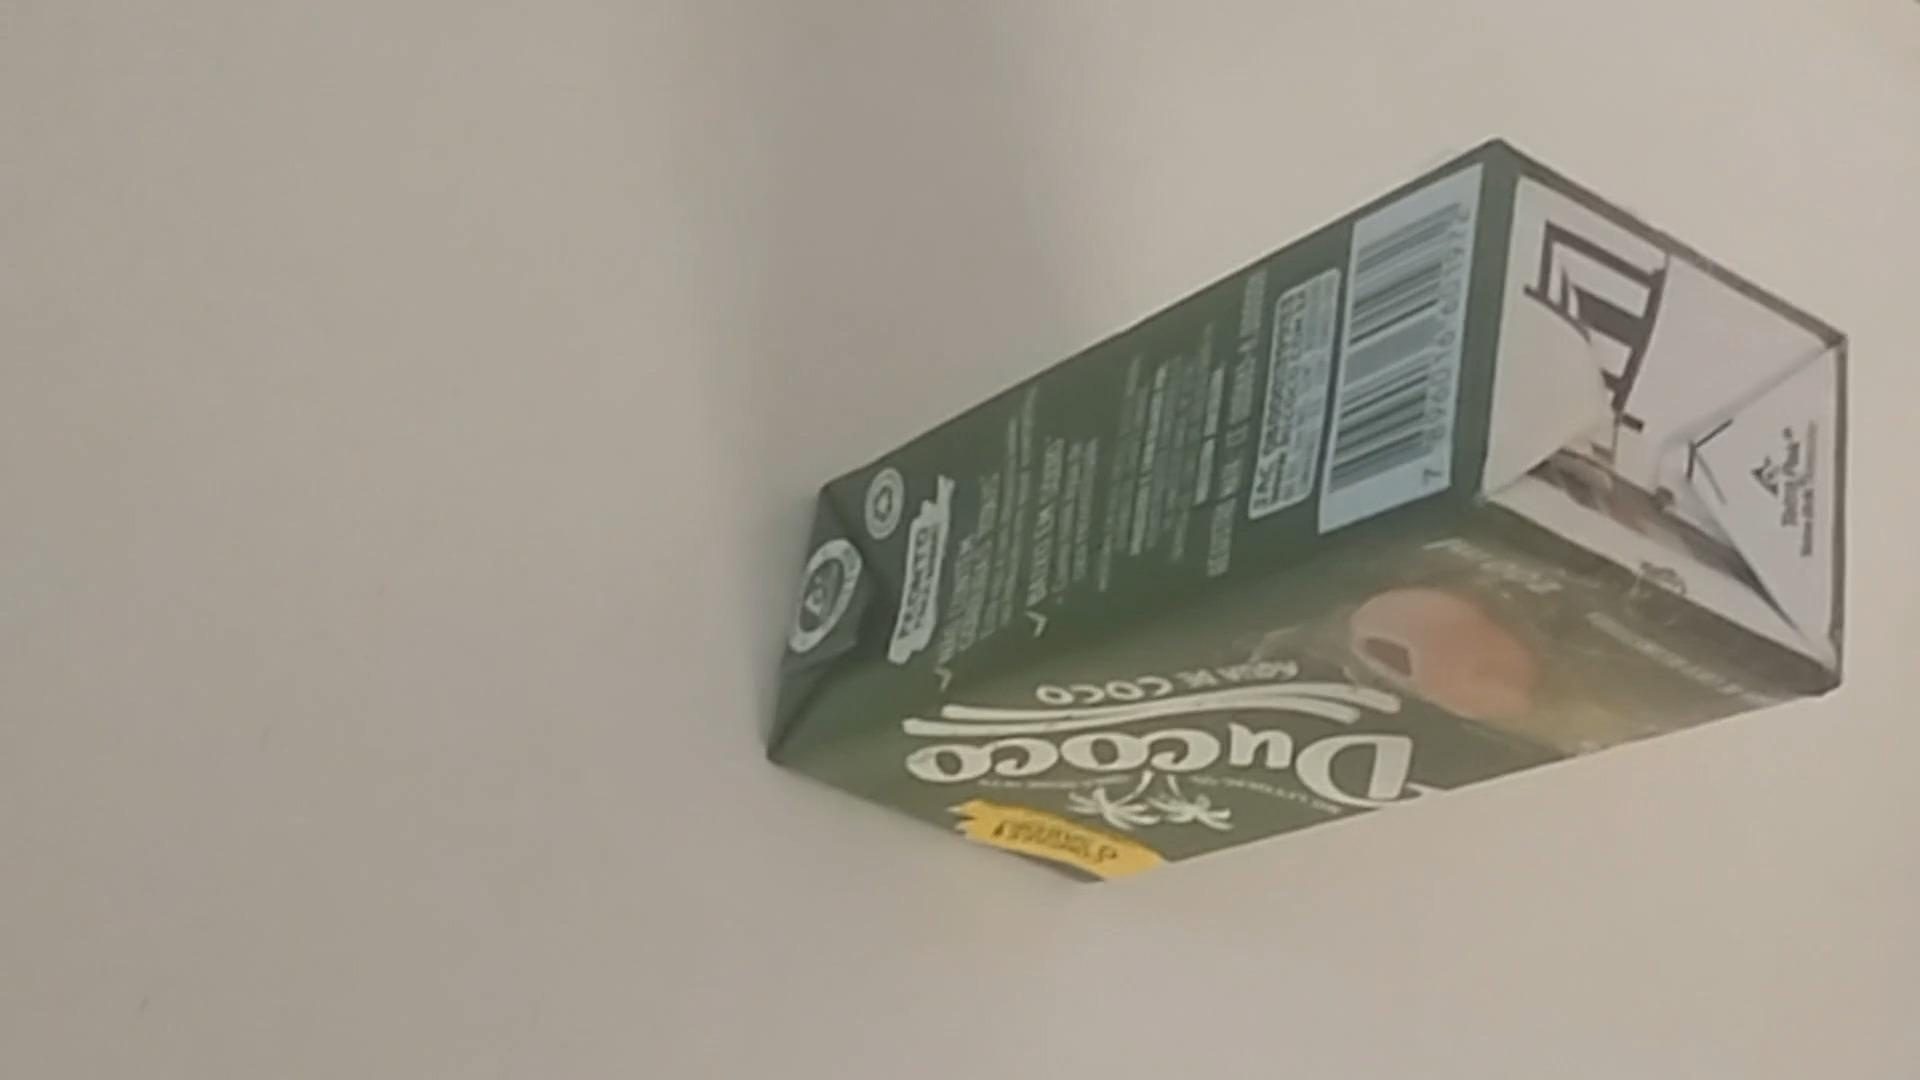coco: (777, 142, 1854, 878)
